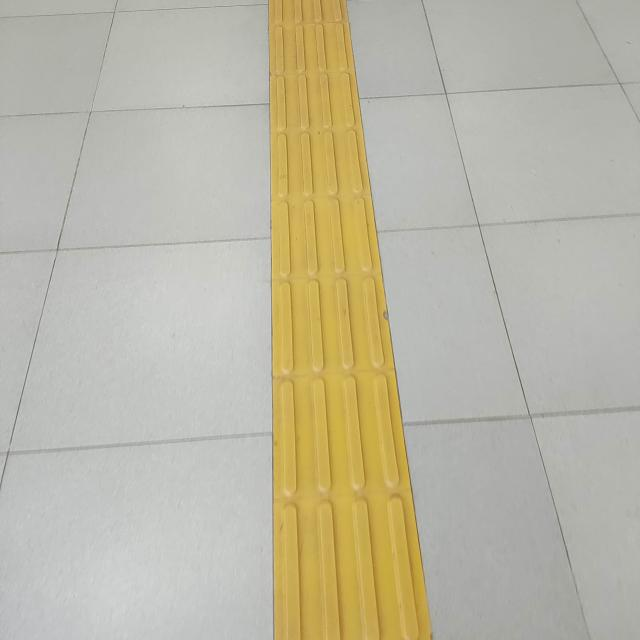lurus: (249, 0, 416, 640)
